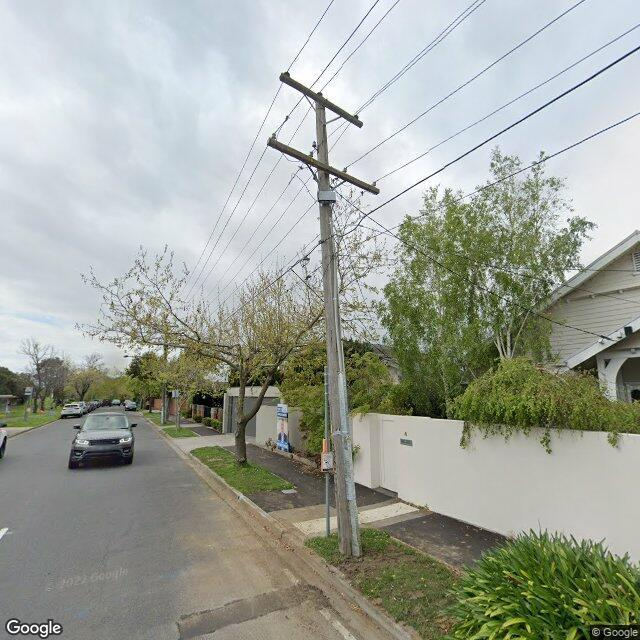HV-transmission: (280, 70, 364, 129)
crossarm: (267, 132, 381, 198), (279, 73, 363, 128)
timber-pole: (316, 95, 362, 558)
